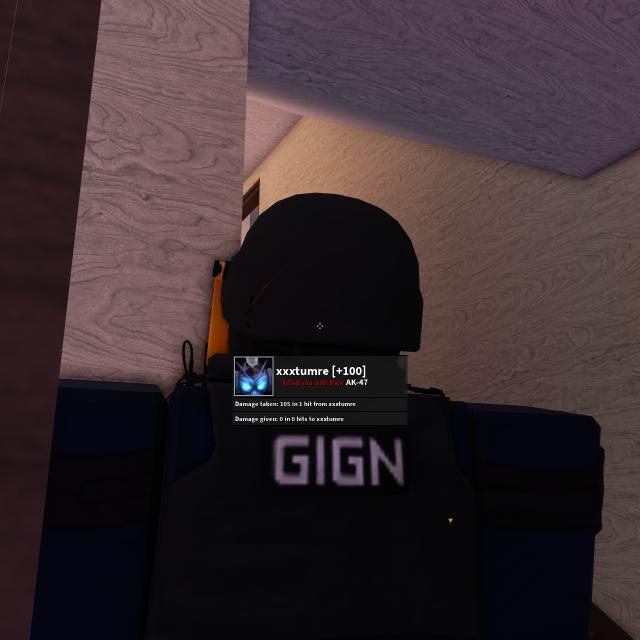Head: (222, 194, 422, 386)
Player: (45, 193, 606, 640)
